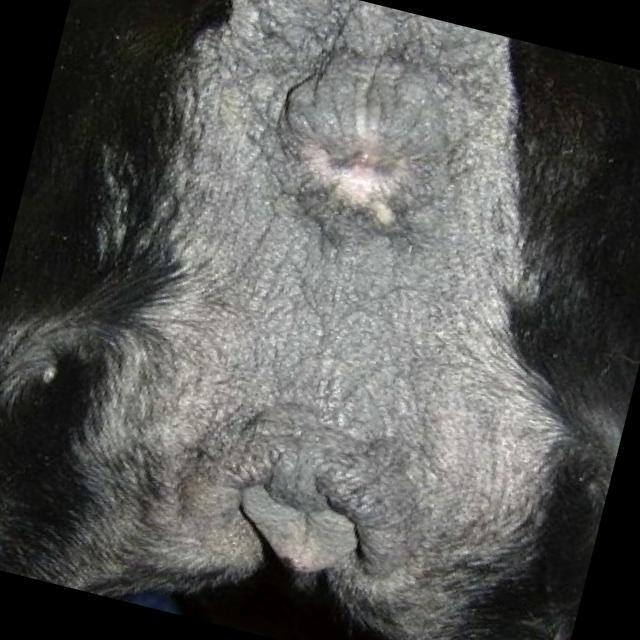allergic dermatitis: (270, 246, 490, 417), (191, 34, 273, 439), (372, 422, 502, 538), (123, 409, 225, 546), (278, 175, 475, 241), (280, 51, 432, 121), (395, 76, 473, 207), (274, 103, 318, 237)
